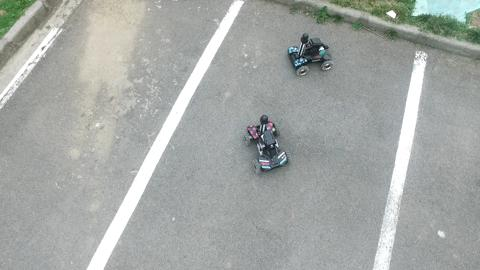chariot: (234, 111, 297, 178), (282, 31, 338, 77)
